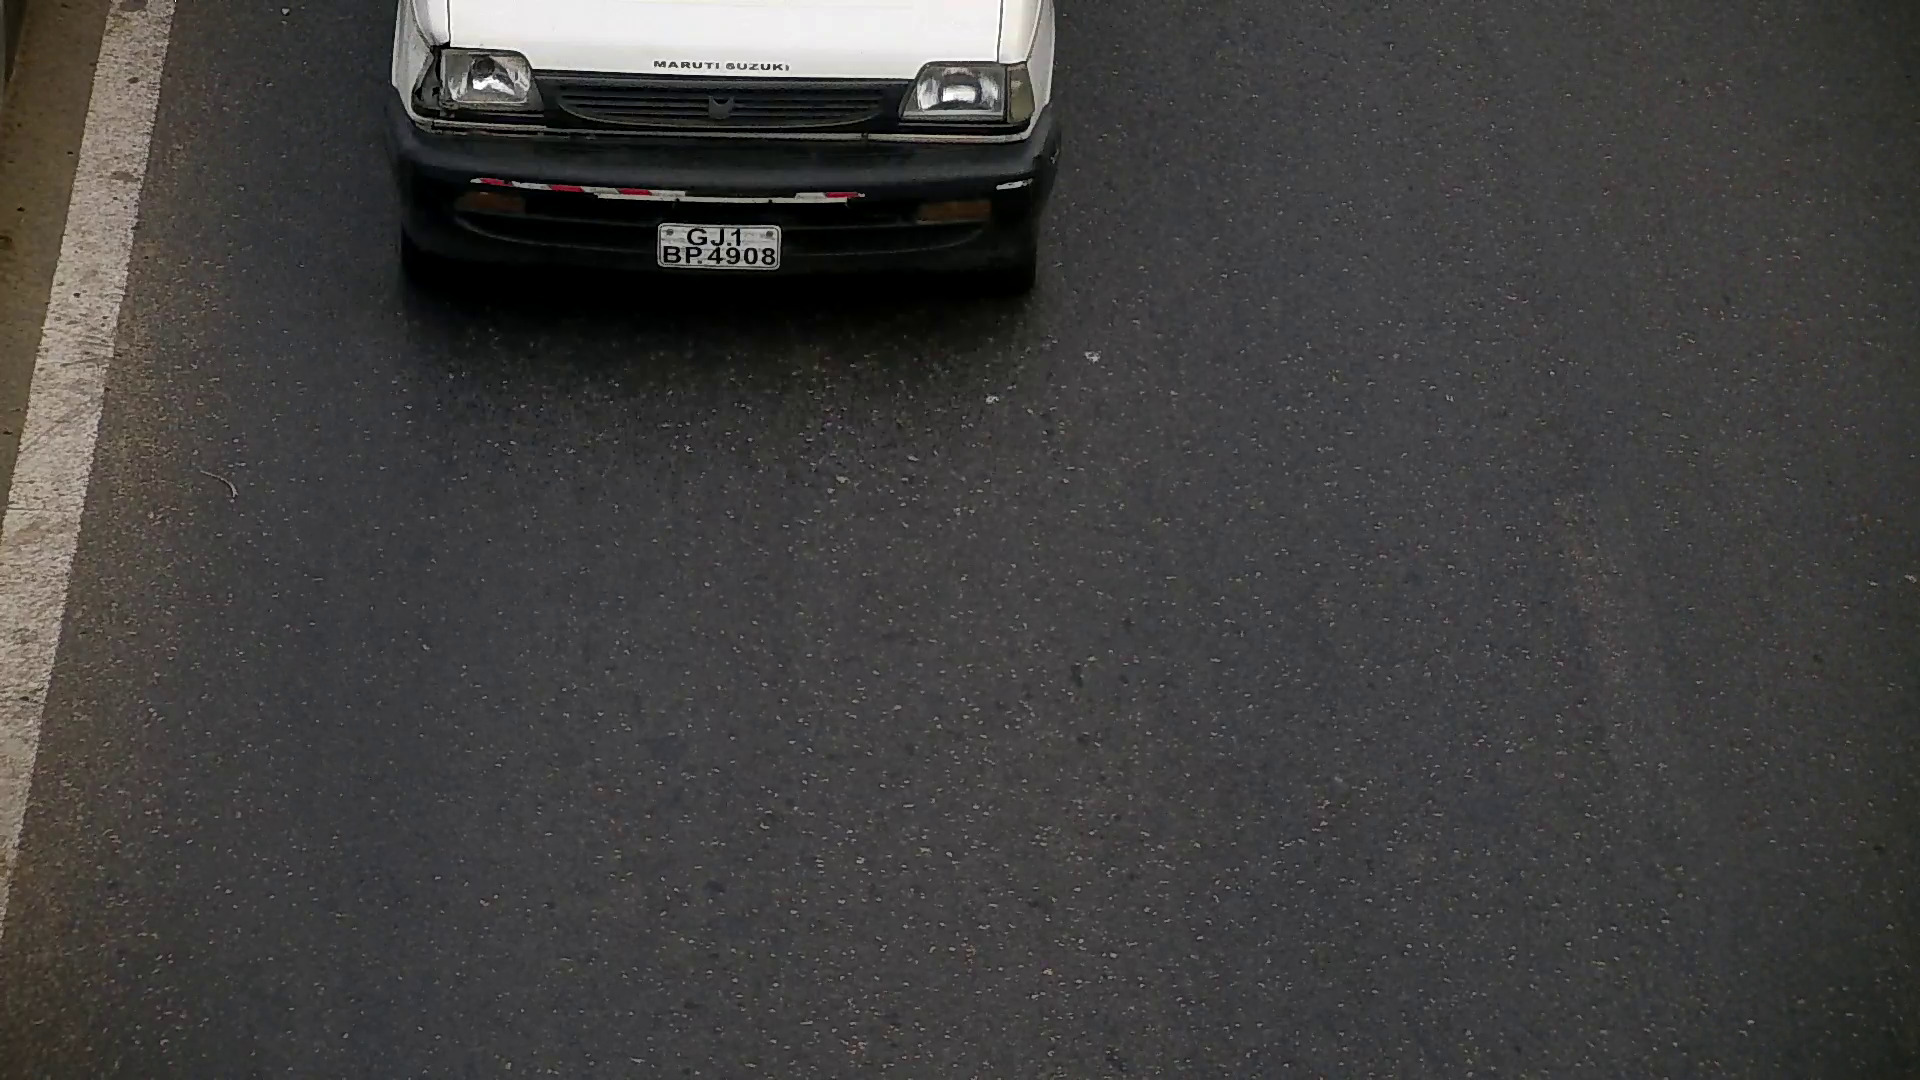doublelinenumberplate: (651, 221, 792, 277)
